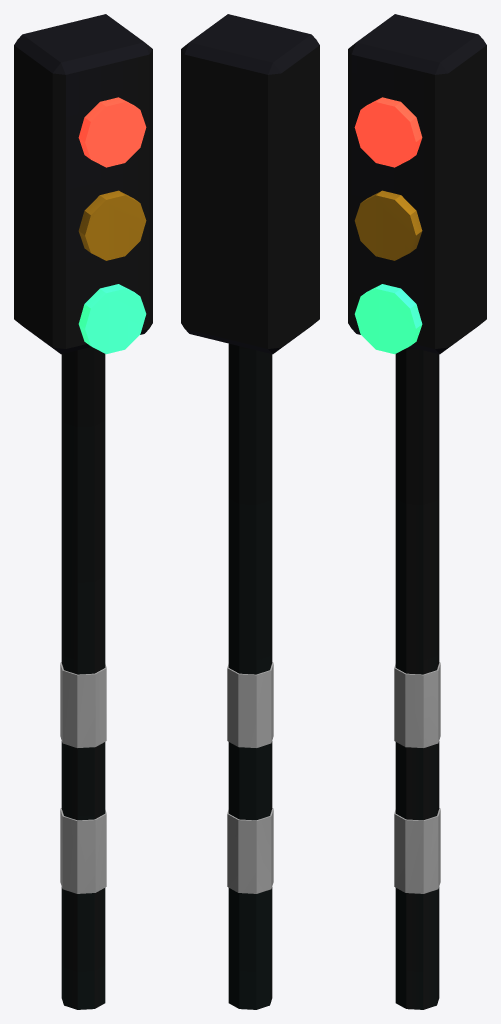
Rendered from ld_traffic--LXgtMDZ.glb.
3 renders of one model, left to right at view 1: azimuth 30°, elevation 25°; view 2: azimuth 150°, elevation 25°; view 3: azimuth 330°, elevation 25°, orthographic.
Size of the model in its own units: 0.36 by 3.3 by 0.3501.
